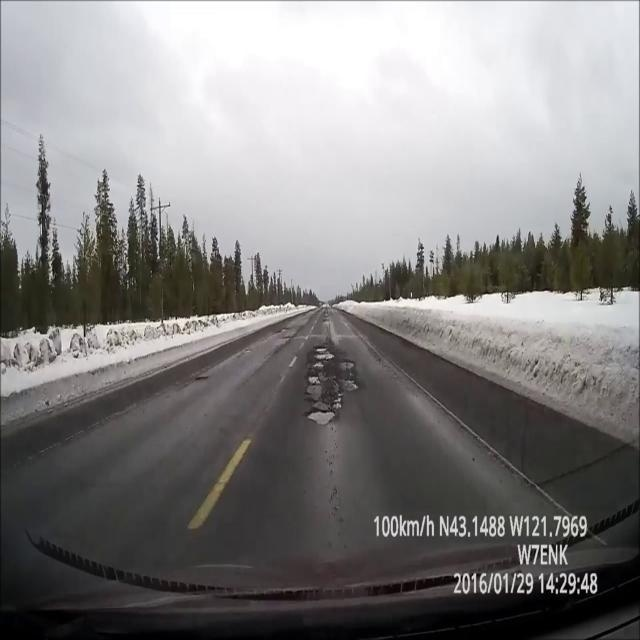pothole: (298, 331, 362, 444), (230, 332, 260, 372), (184, 362, 214, 398), (270, 312, 298, 343), (318, 302, 336, 330)
